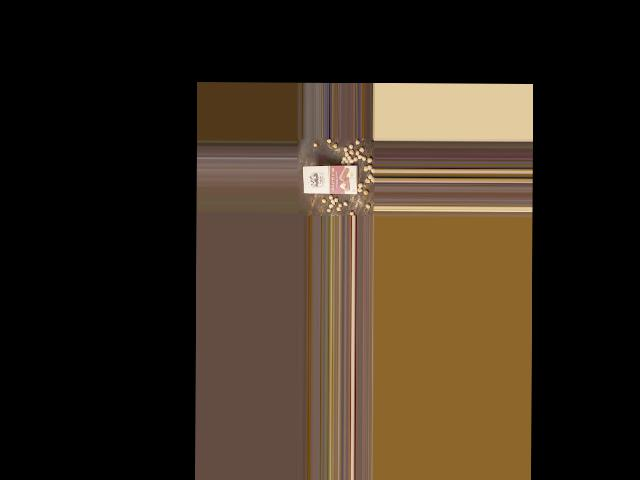chocolate: (301, 162, 358, 195)
